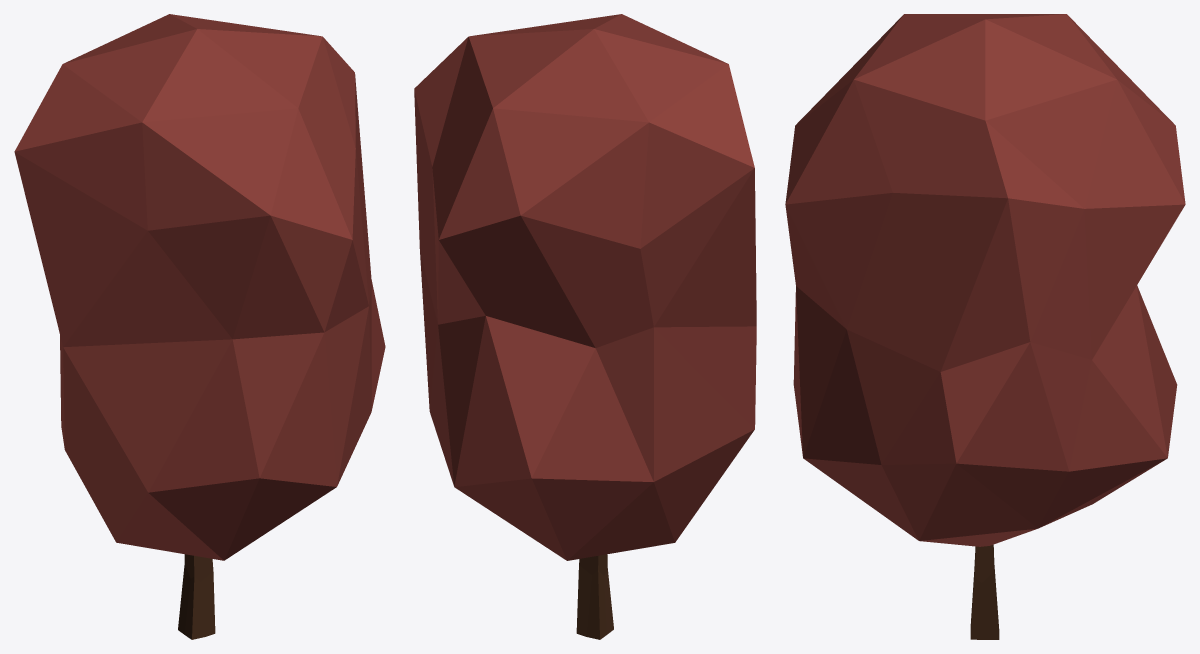
File: Tree_7_Red.fbx
The picture shows the model from 3 angles, left to right: view 1: azimuth 30°, elevation 25°; view 2: azimuth 150°, elevation 25°; view 3: azimuth 270°, elevation 25°; orthographic projection. The views are drawn at different scales.
Visible parts, largest first — view 1: Tree_7_Red_Part_1, Tree_7_Red_Part_2; view 2: Tree_7_Red_Part_1, Tree_7_Red_Part_2; view 3: Tree_7_Red_Part_1, Tree_7_Red_Part_2.
Part boxes in pixels (bbox=[...]): Tree_7_Red_Part_1: bbox=[14, 14, 385, 560]; Tree_7_Red_Part_2: bbox=[178, 554, 215, 639]; Tree_7_Red_Part_1: bbox=[414, 14, 756, 560]; Tree_7_Red_Part_2: bbox=[576, 554, 613, 639]; Tree_7_Red_Part_1: bbox=[785, 14, 1185, 546]; Tree_7_Red_Part_2: bbox=[970, 544, 999, 639].
Bounding box in the file's own units: 478 × 796 × 468.
